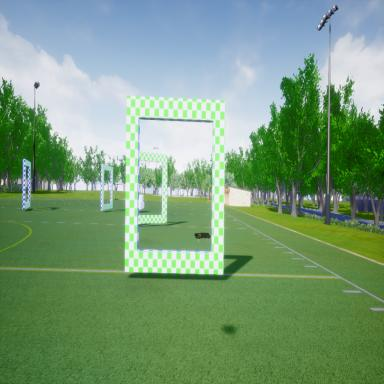gate: (120, 92, 230, 283), (137, 148, 171, 226), (97, 158, 115, 218), (19, 156, 32, 213)
